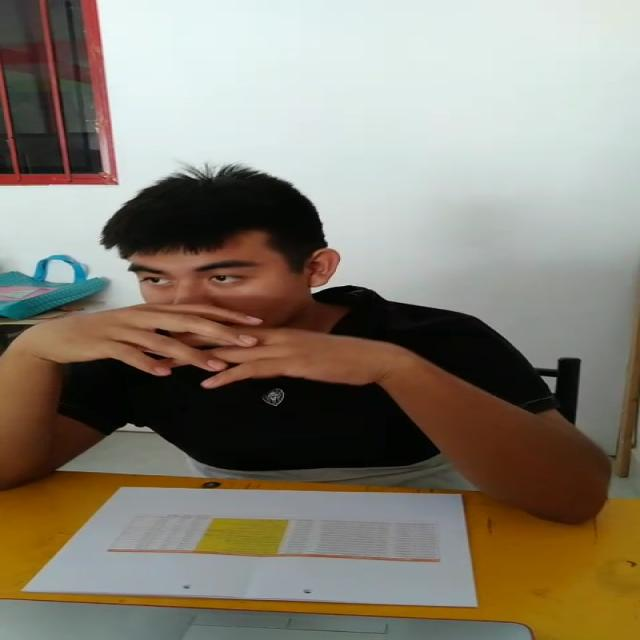7_mano_rostro: (58, 295, 286, 375)
